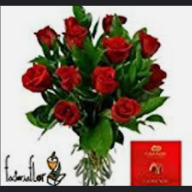RedRose: (57, 16, 91, 48), (110, 92, 139, 127), (90, 66, 120, 97), (19, 62, 48, 93), (98, 35, 129, 62), (142, 62, 166, 94), (57, 100, 80, 129), (140, 28, 161, 56), (101, 10, 126, 32), (58, 65, 80, 89), (39, 27, 59, 53)
